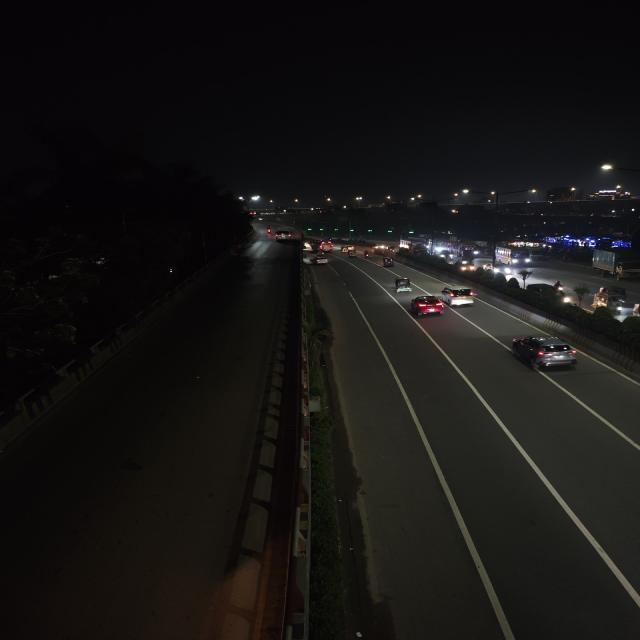bus: (496, 245, 532, 268), (461, 241, 487, 260)
car: (510, 333, 583, 372), (442, 285, 479, 308), (408, 295, 445, 317), (275, 230, 294, 242), (312, 254, 331, 266)
cng: (592, 291, 626, 313), (392, 276, 415, 294), (382, 256, 398, 268), (347, 249, 358, 258)
motorcycle: (551, 280, 568, 294), (362, 250, 372, 260)
truck: (590, 247, 640, 280)
